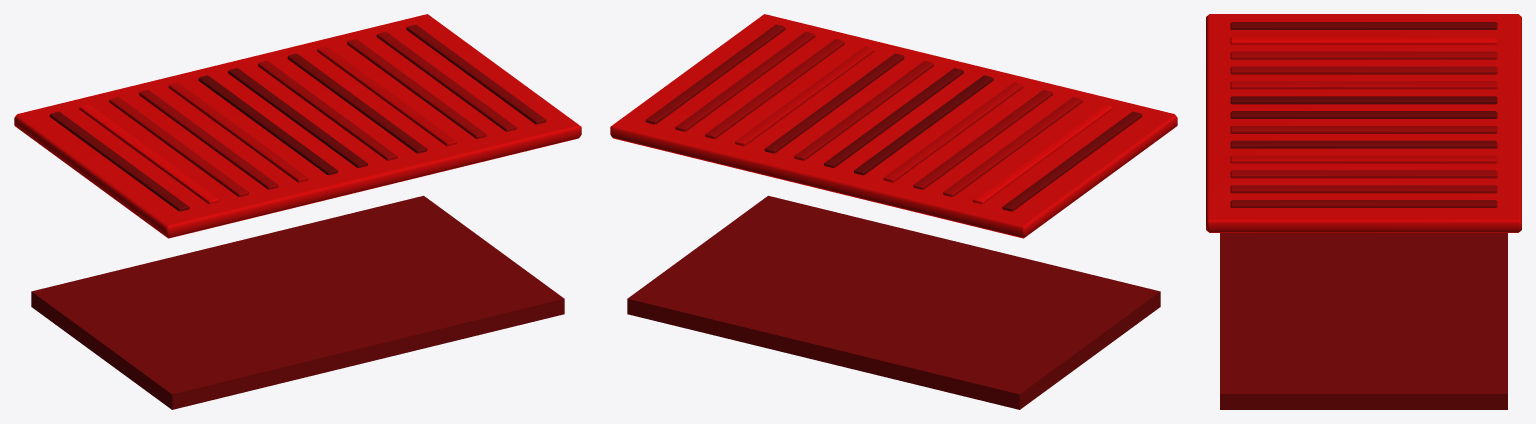
File: vent_street.glb
3 renders of one model, left to right at view 1: azimuth 30°, elevation 25°; view 2: azimuth 150°, elevation 25°; view 3: azimuth 270°, elevation 25°, orthographic. The views are drawn at different scales.
Visible parts, largest first — view 1: vent_street; view 2: vent_street; view 3: vent_street.
Boxes of the visible parts, bbox=[...] form: vent_street: bbox=[14, 14, 581, 409]; vent_street: bbox=[610, 14, 1177, 409]; vent_street: bbox=[1206, 14, 1521, 409].
Size of the model in its own units: 1.4 by 0.625 by 0.9.
